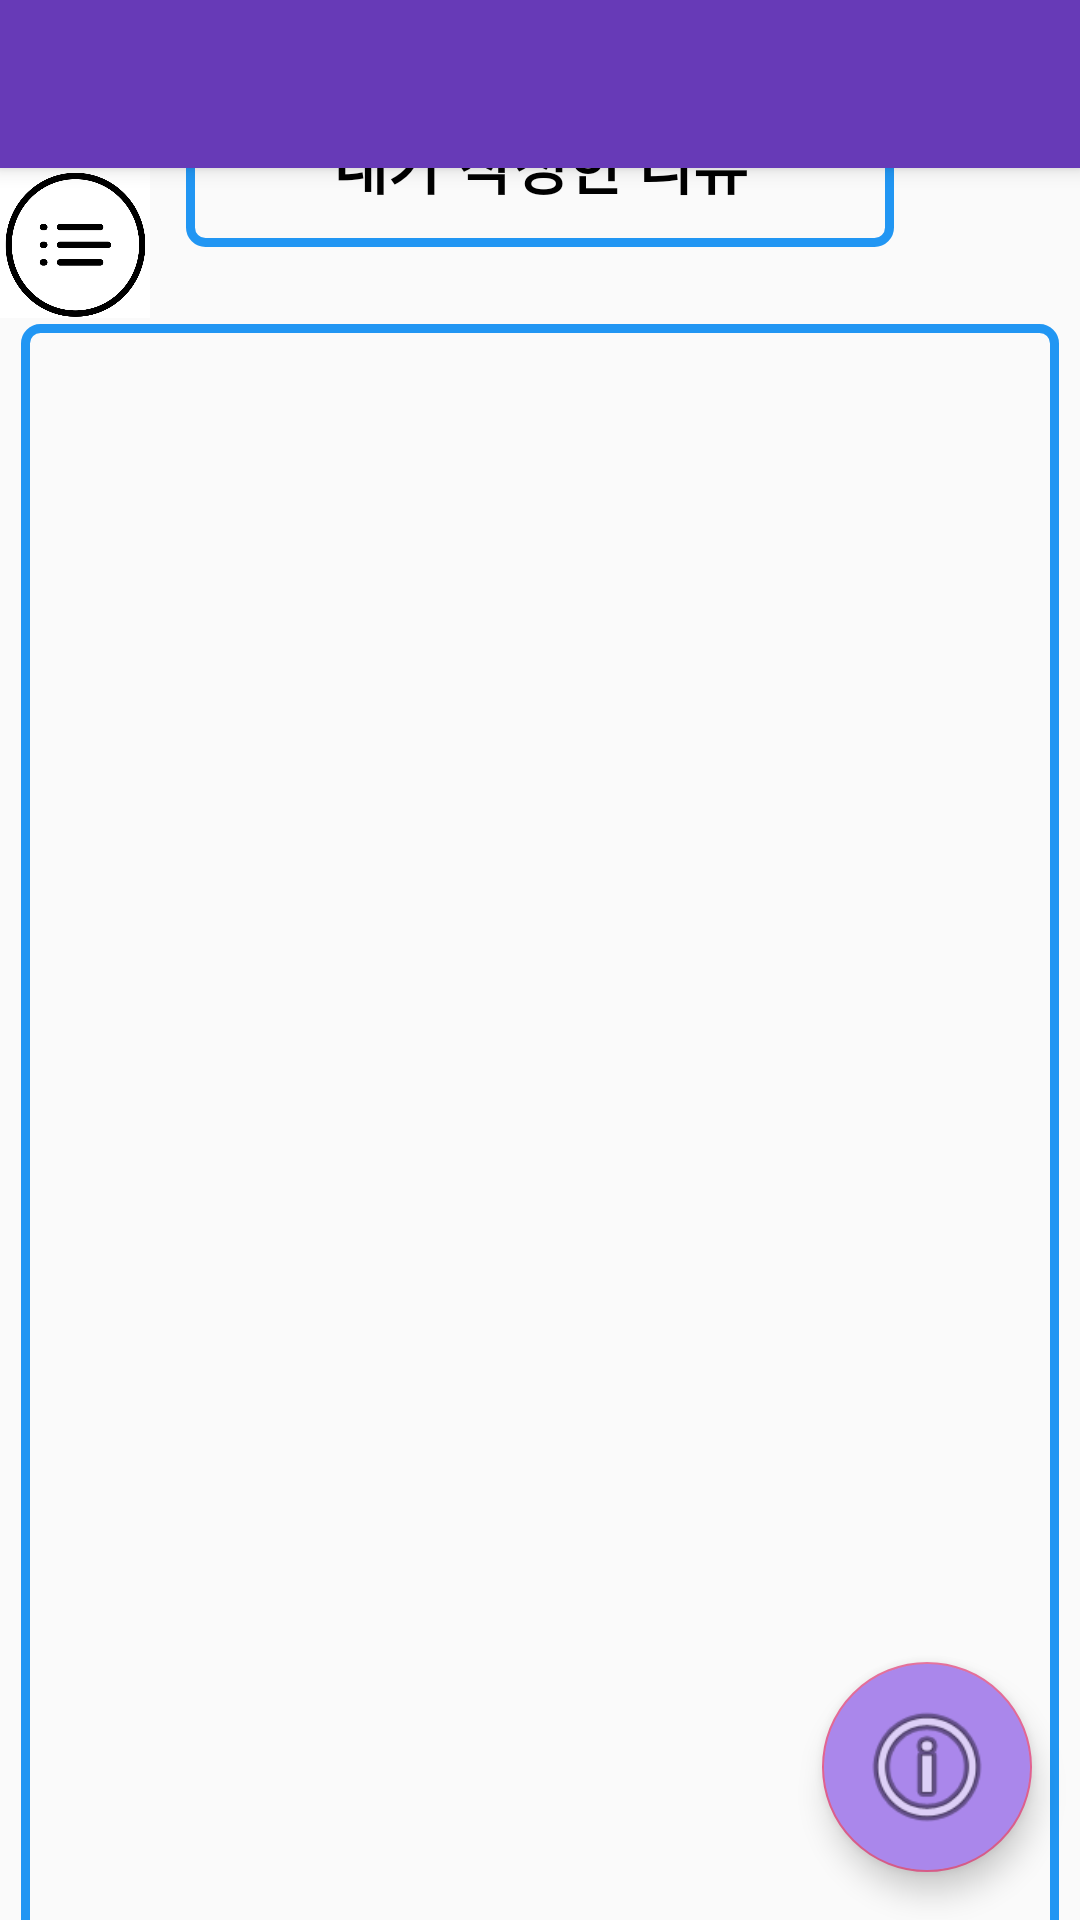

Point at icon controls on the screen. Image size 1080px×1920px, points as (x=x, y=y).
info details: (x=927, y=1767)
menu: (x=75, y=245)
